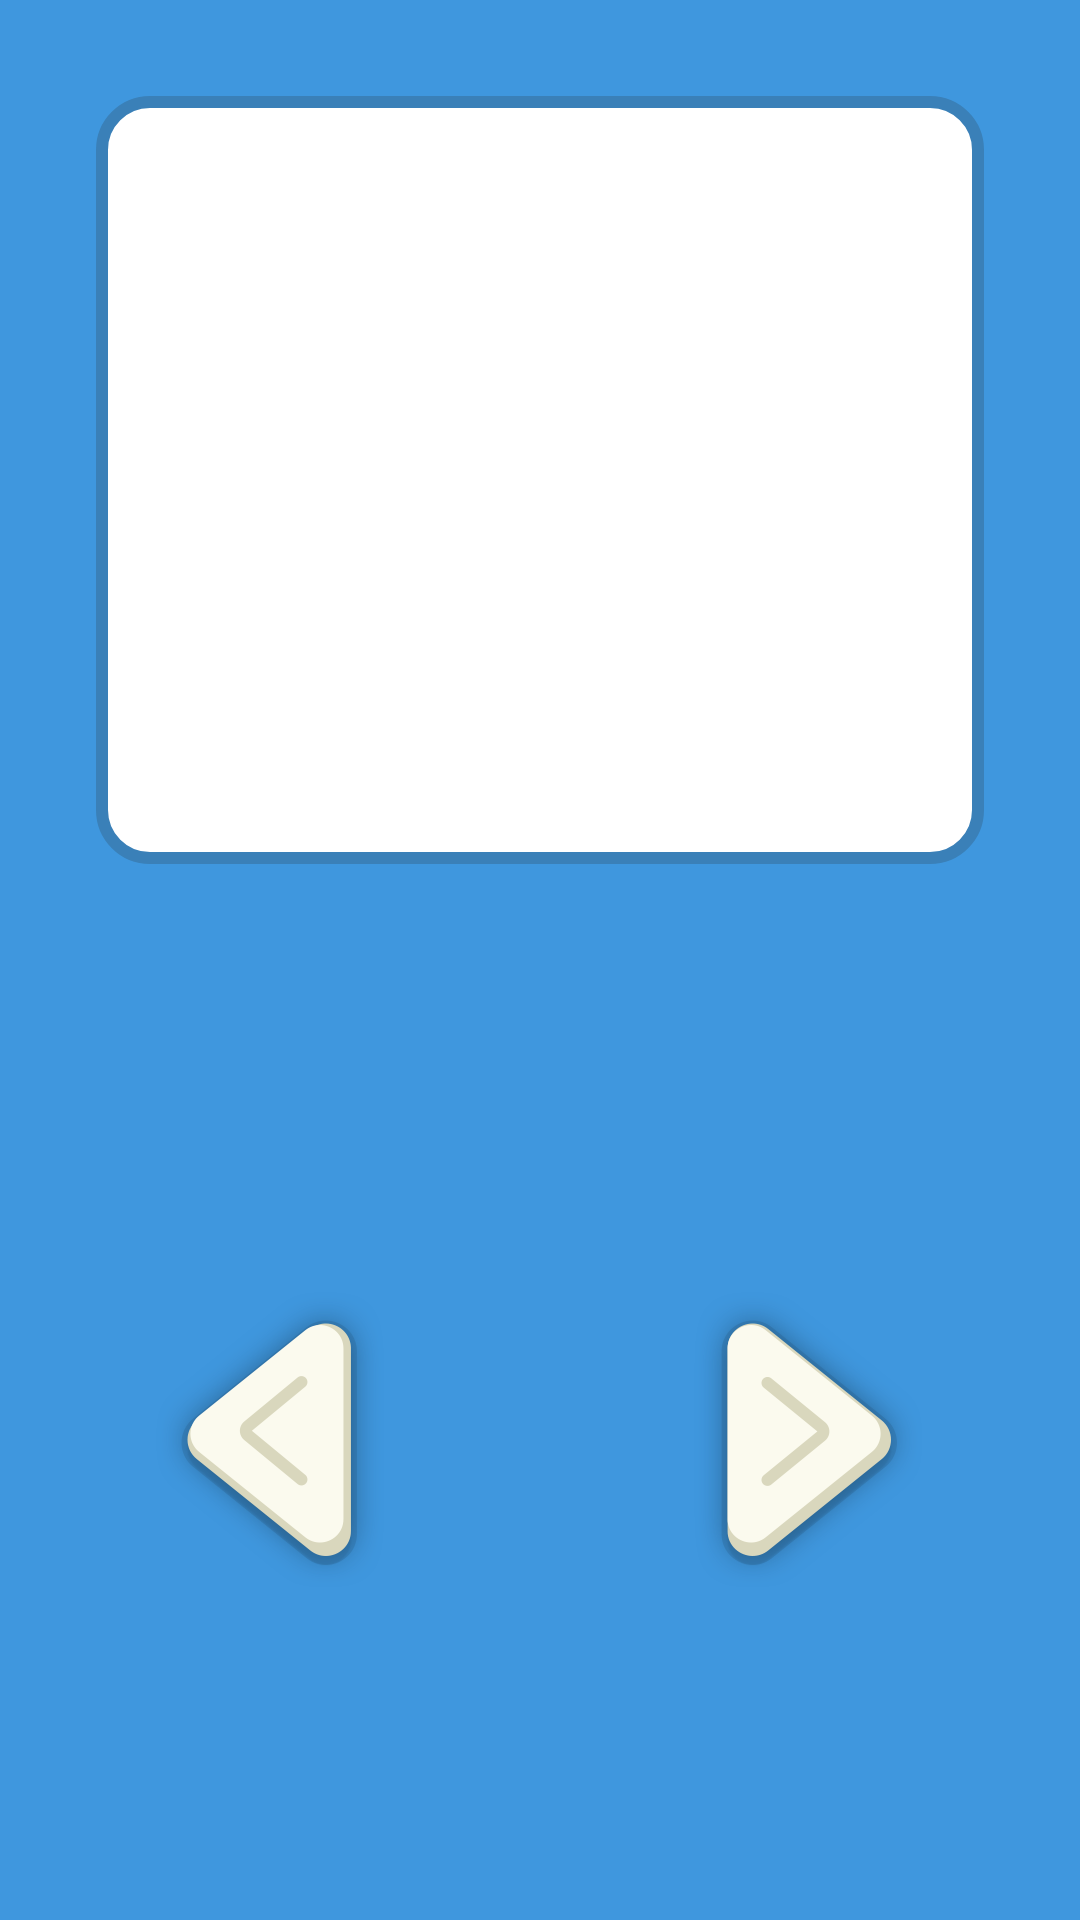

Icons on this 1080×1920 Android screen, each with the point to tap as [x,y]:
back idle: [270,1442]
next idle: [807,1442]
